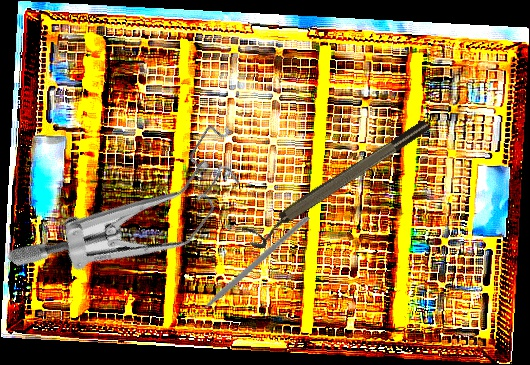Chopper: (180, 189, 310, 343)
Fixation Ring: (241, 116, 437, 253)
Speculum: (3, 67, 265, 345)
